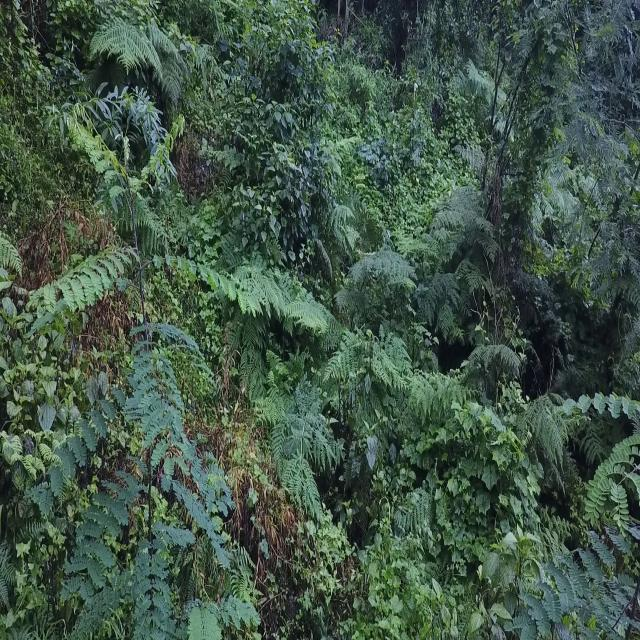Mysore-Thorn-Weed: (20, 111, 272, 640), (493, 506, 639, 640)
